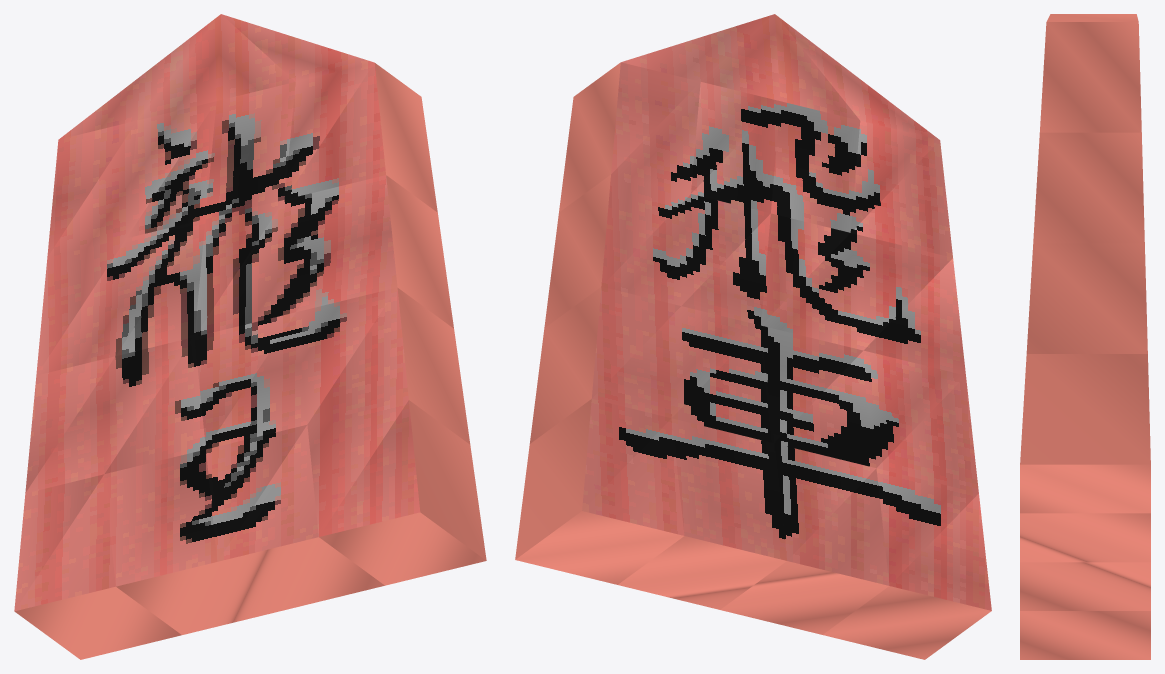
Rendered from ps2_save-icons_toudaishogishikenbishadojo-systemdata.glb.
3 views of the same model, side by side, from view 1: azimuth 30°, elevation 25°; view 2: azimuth 150°, elevation 25°; view 3: azimuth 270°, elevation 25° (orthographic). The views are drawn at different scales.
Visible parts, largest first — view 1: system.ico; view 2: system.ico; view 3: system.ico.
Part boxes in pixels (x1,y1,x2,y2): system.ico: (14, 14, 486, 659); system.ico: (515, 14, 991, 659); system.ico: (1020, 14, 1150, 659).
Size of the model in its own units: 3.14 by 4.09 by 0.8879.
Materials: 1 (1 with a texture image).
